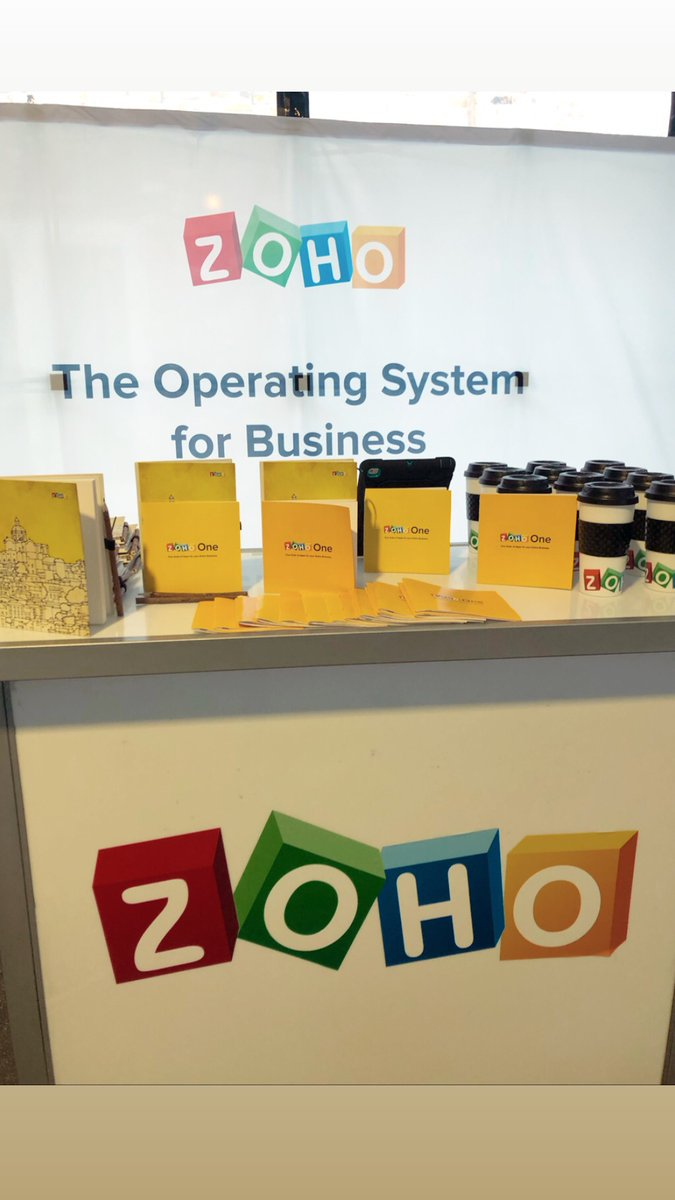zoho: (82, 802, 635, 975), (179, 205, 407, 291)
